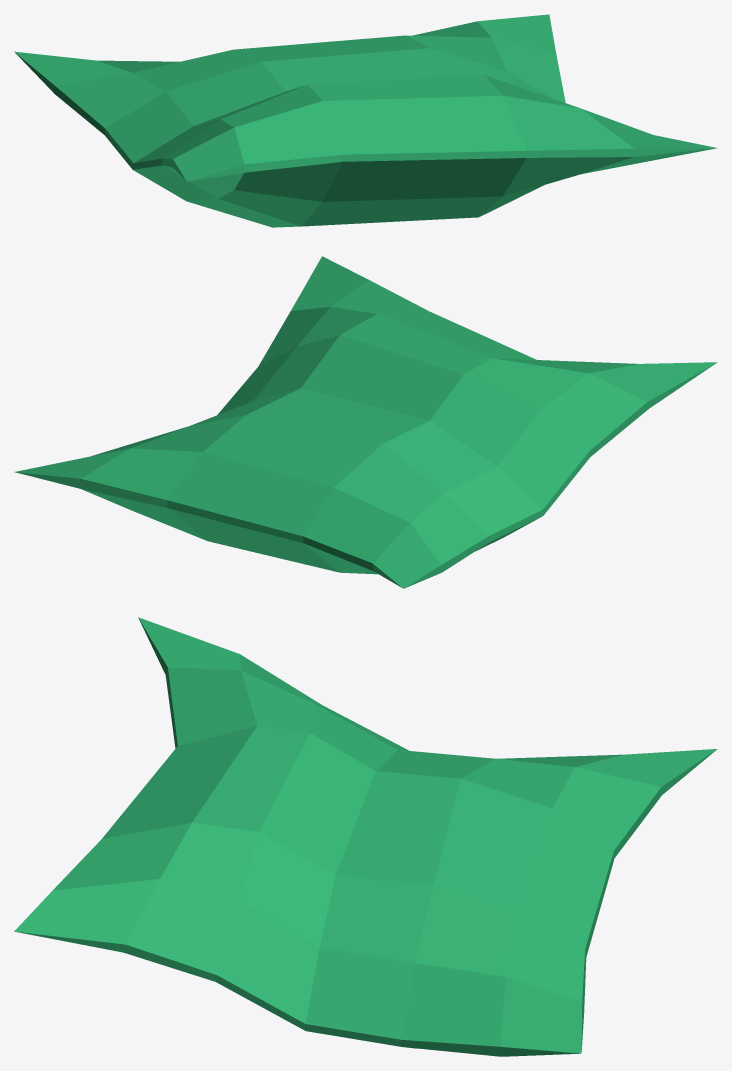
File: Livingroom2_Pillow.fbx
The picture shows the model from 3 angles, top to bottom: view 1: azimuth 30°, elevation 25°; view 2: azimuth 150°, elevation 25°; view 3: azimuth 270°, elevation 25°; orthographic projection. The views are drawn at different scales.
Parts seen in each view (by area): view 1: Livingroom2_Pillow; view 2: Livingroom2_Pillow; view 3: Livingroom2_Pillow.
Boxes of the visible parts, x1,y1,x2,y2 form: Livingroom2_Pillow: [14, 14, 717, 227]; Livingroom2_Pillow: [14, 256, 717, 588]; Livingroom2_Pillow: [14, 617, 717, 1056].
Size of the model in its own units: 72.95 by 23.27 by 70.
